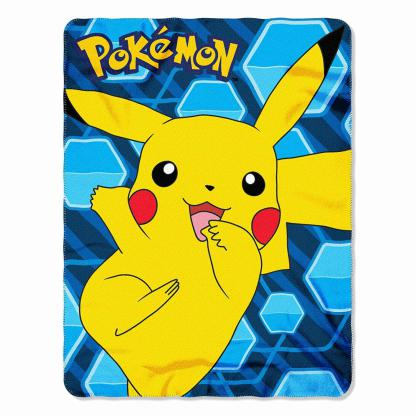Pikachu: (1, 2, 416, 416)
